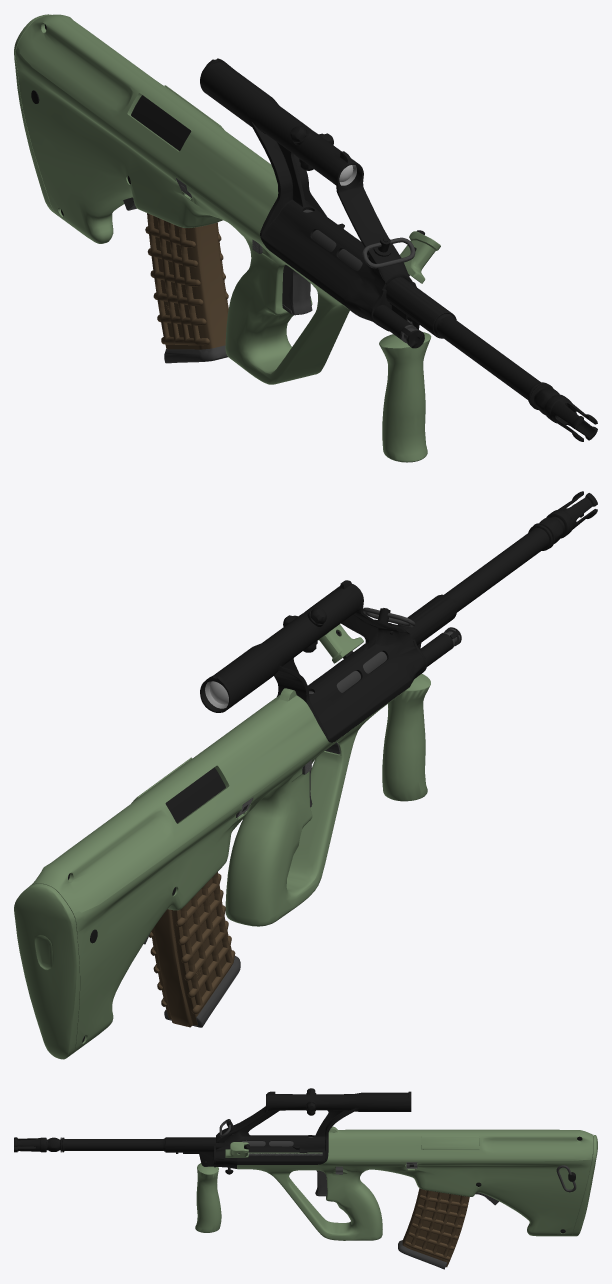
The model's file is SK_AUGZUVOnly.fbx.
3 views of the same model, one above another, from view 1: azimuth 30°, elevation 25°; view 2: azimuth 150°, elevation 25°; view 3: azimuth 270°, elevation 25° (orthographic). The views are drawn at different scales.
Visible parts, largest first — view 1: Silver Metal; view 2: Silver Metal; view 3: Silver Metal.
Boxes of the visible parts, box(x1,y1,x2,y2) form: Silver Metal: box(14, 14, 597, 462); Silver Metal: box(14, 491, 597, 1059); Silver Metal: box(14, 1088, 597, 1269).
Bounding box in the file's own units: 10.49 × 35.24 × 107.
